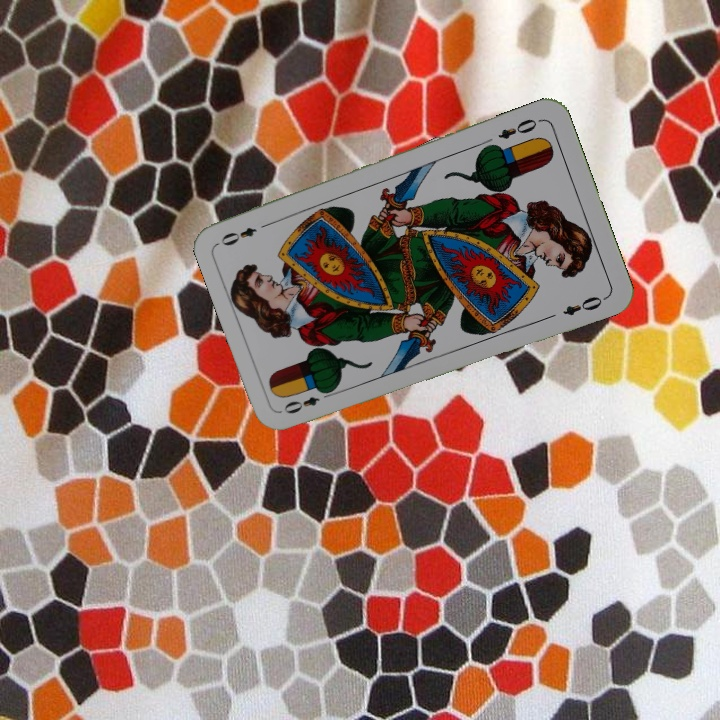EO: (279, 386, 336, 417), (494, 114, 544, 142)
